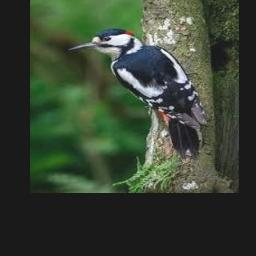Woodpecker: (69, 28, 207, 161)
